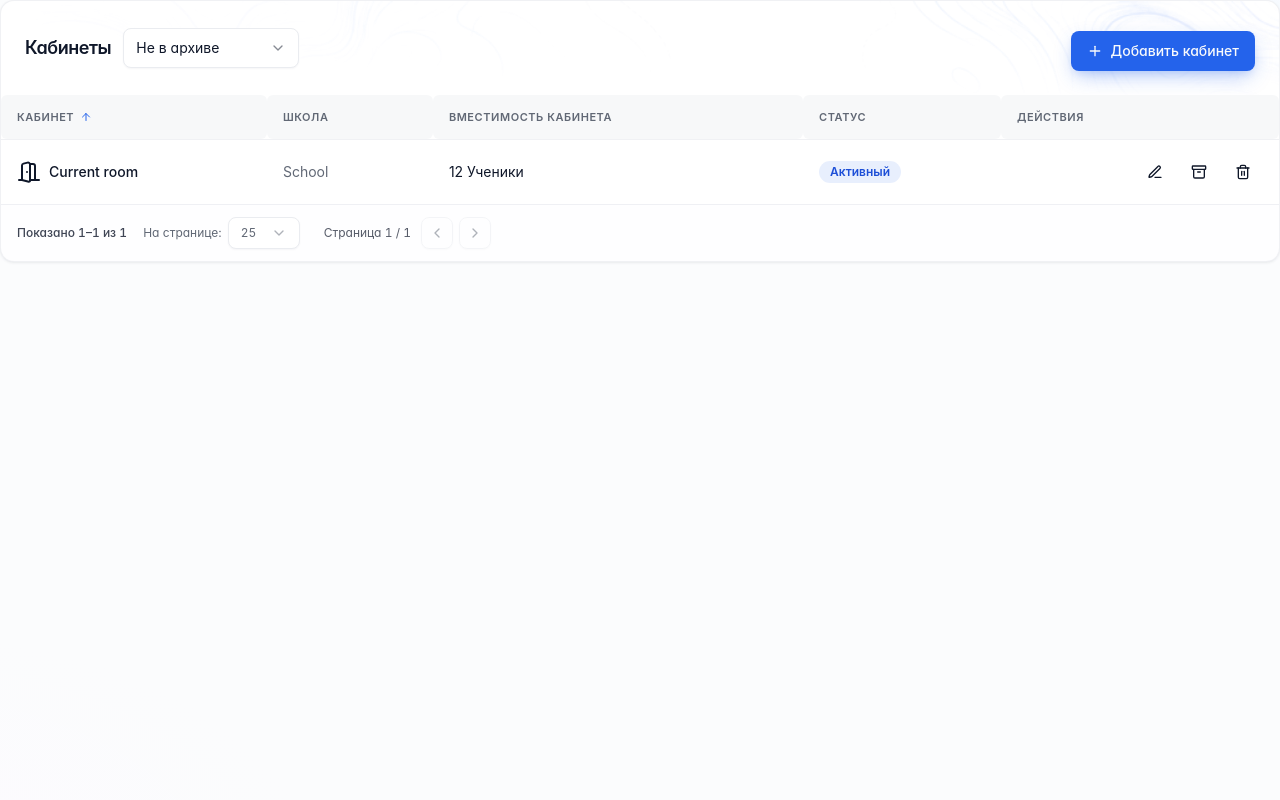
Test: keeps the archive confirmation open with a validation error
This screenshot has width=1280, height=800.
What coordinates should you click on to do the following:
click the button named "Архивировать кабинет"
I would click on:
 (1199, 172)
Its box is [1179,152,1219,192].
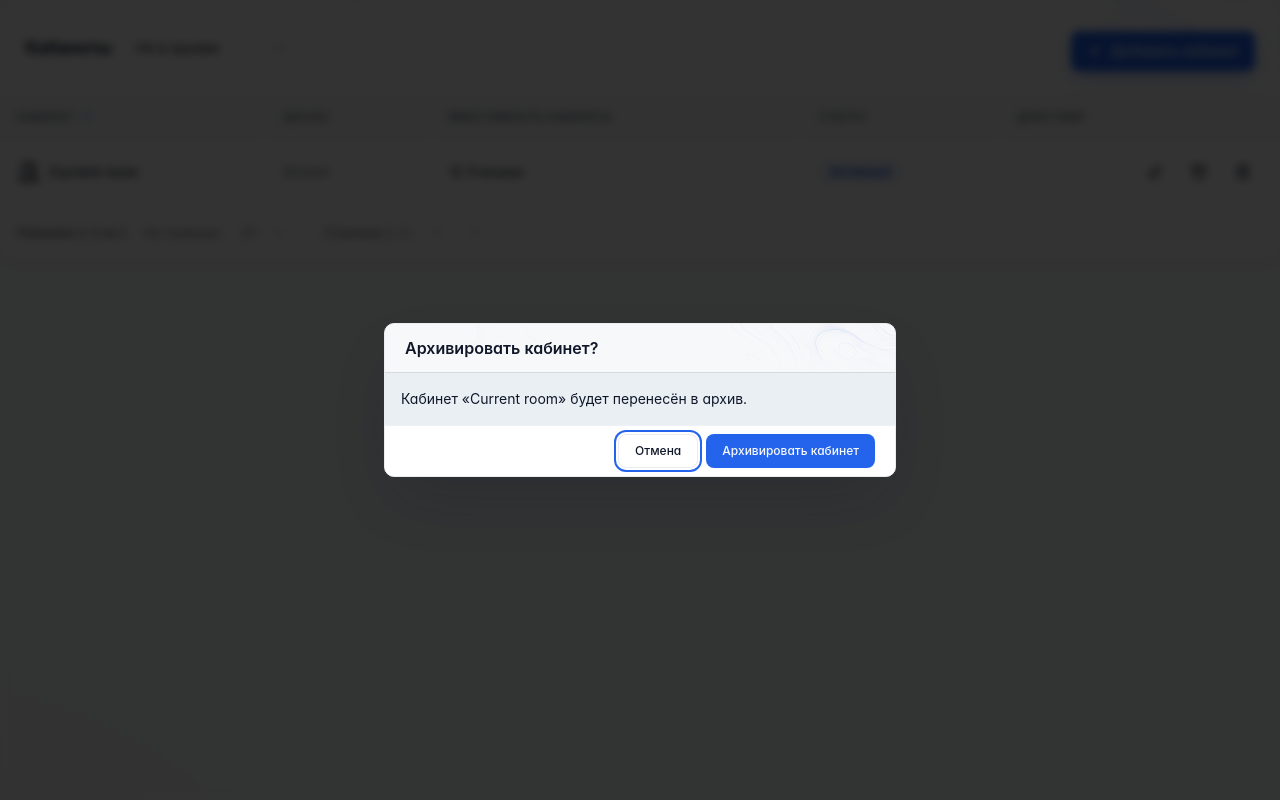
What coordinates should you click on to do the following:
click the button "Архивировать кабинет"
I would click on:
 (791, 451)
Its box is [706,434,875,468].
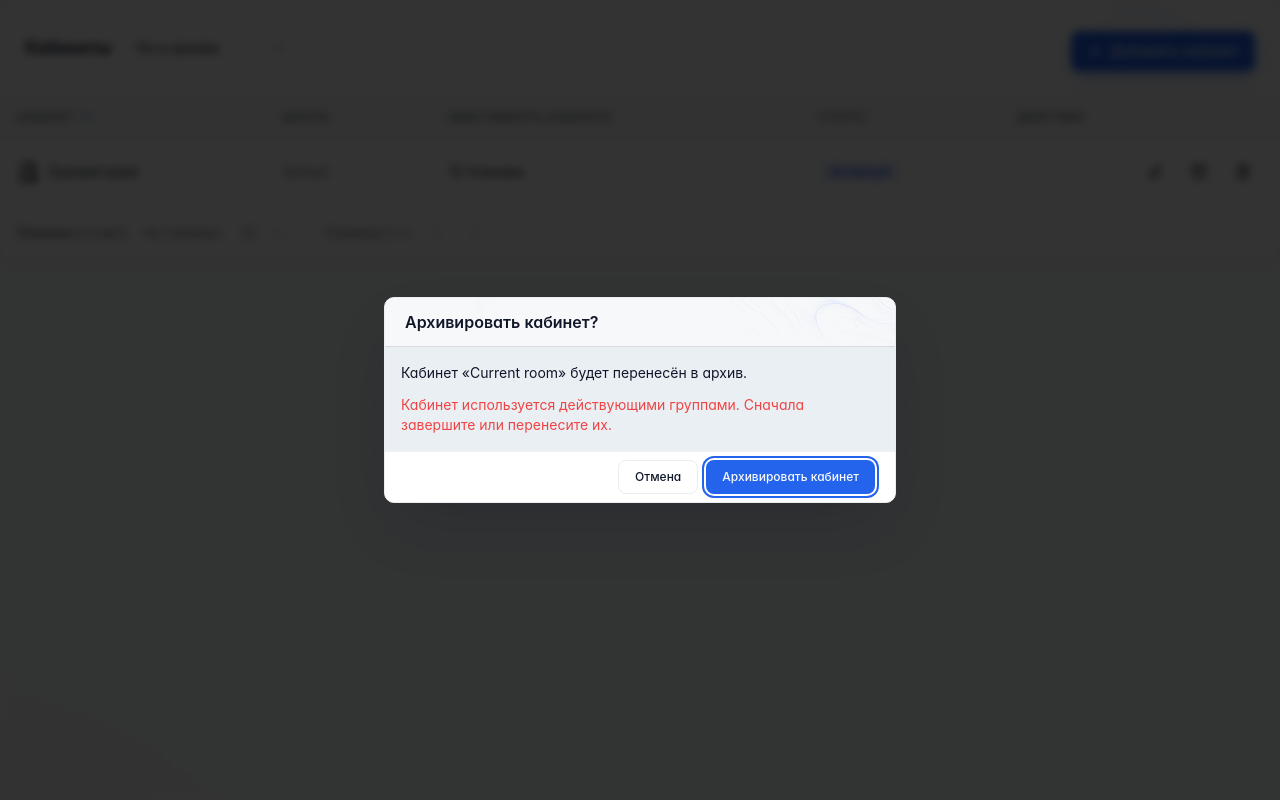
expect the message reads "Кабинет используется действующими группами. Сначала завершите или перенесите их.": met, box [401,396,804,433]
